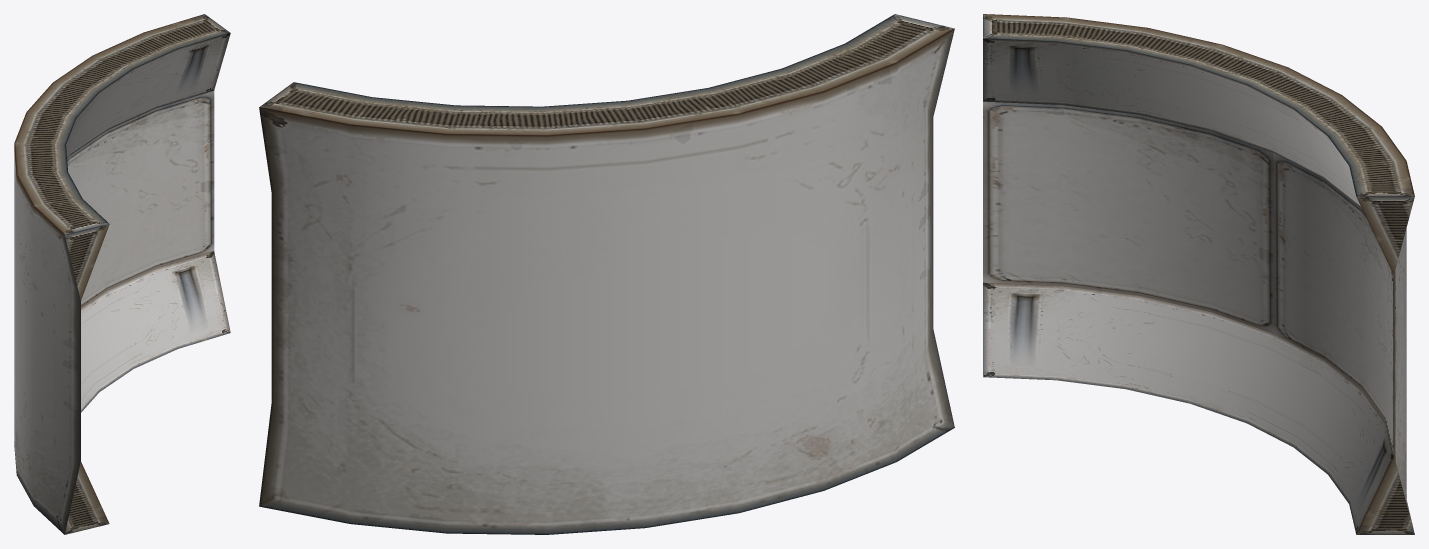
Rendered from scifi_wall_curve2_8.FBX.
3 renders of one model, left to right at view 1: azimuth 30°, elevation 25°; view 2: azimuth 150°, elevation 25°; view 3: azimuth 270°, elevation 25°, orthographic. The views are drawn at different scales.
Visible parts, largest first — view 1: Plane177; view 2: Plane177; view 3: Plane177.
Boxes of the visible parts, x1,y1,x2,y2 form: Plane177: (14,14,230,534); Plane177: (259,14,954,534); Plane177: (983,14,1414,534).
Size of the model in its own units: 294 by 254 by 294.
